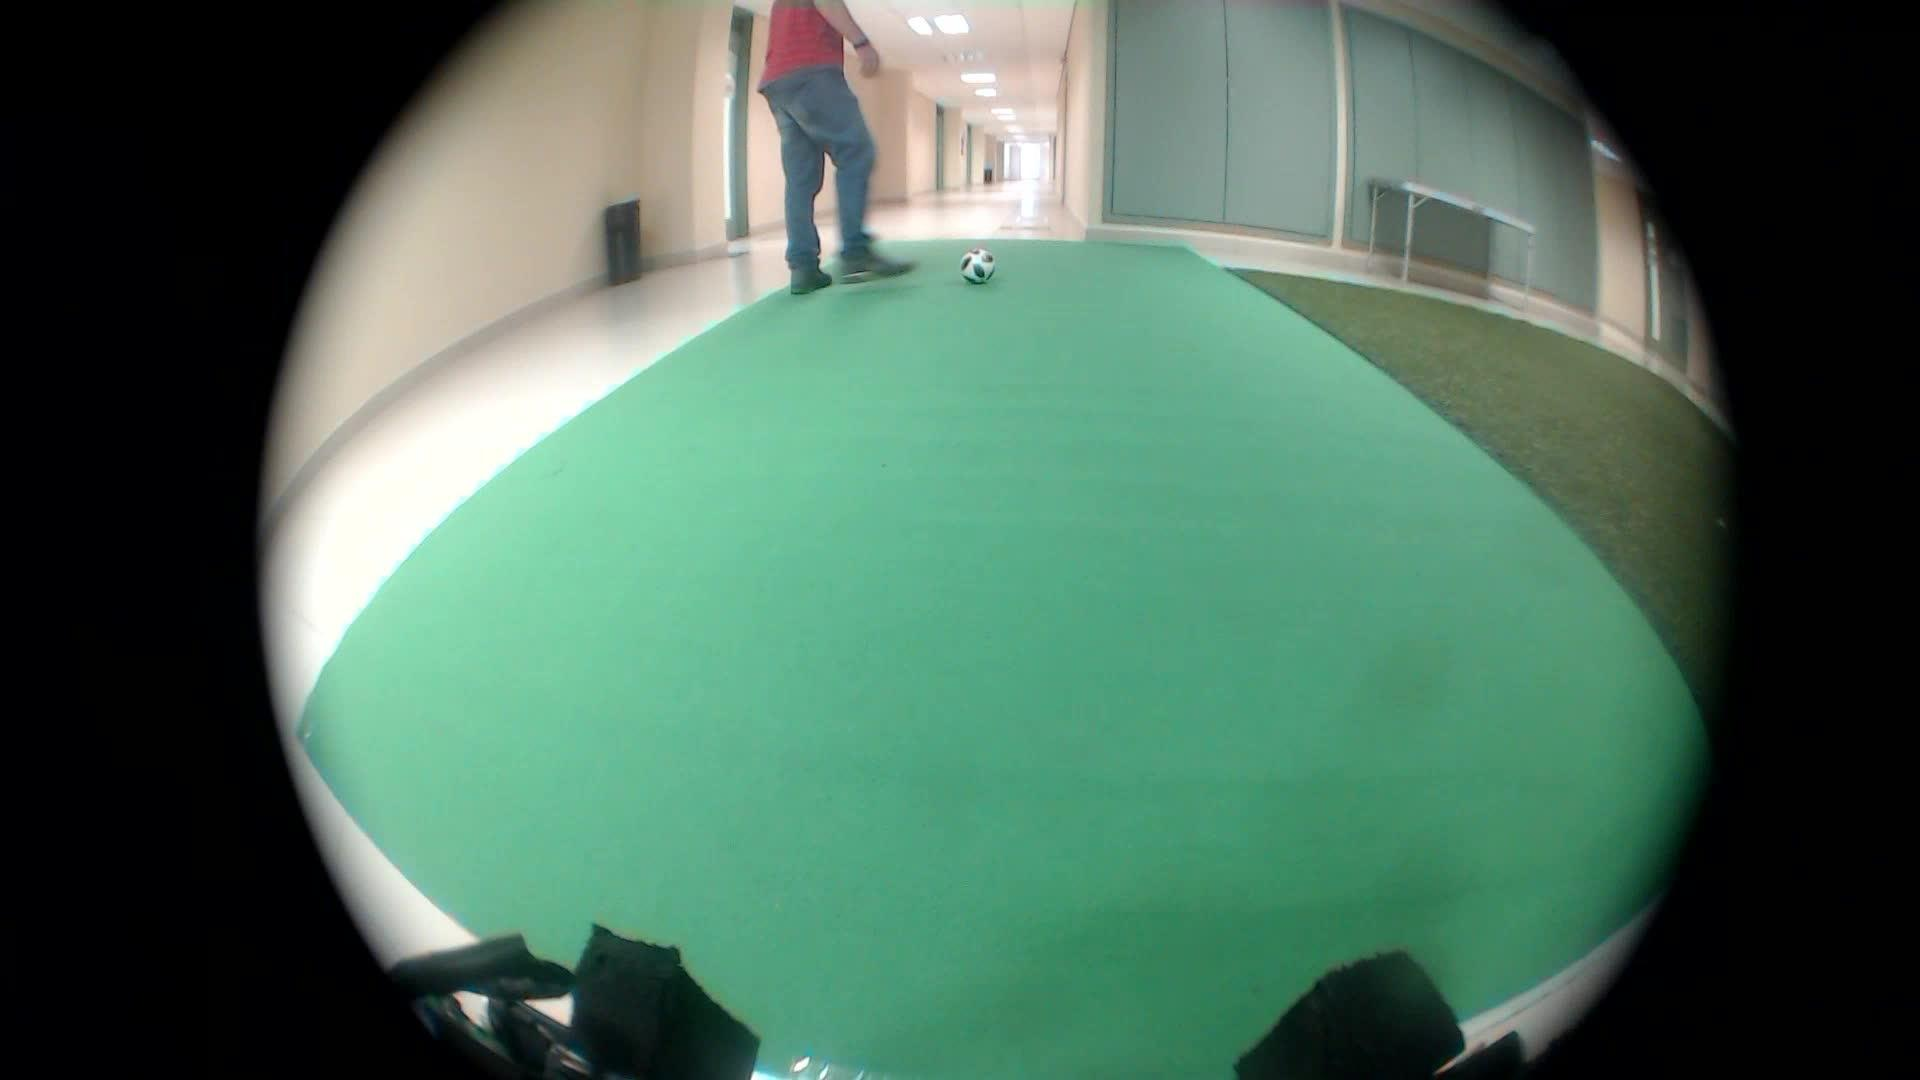ball: (956, 243, 1000, 289)
